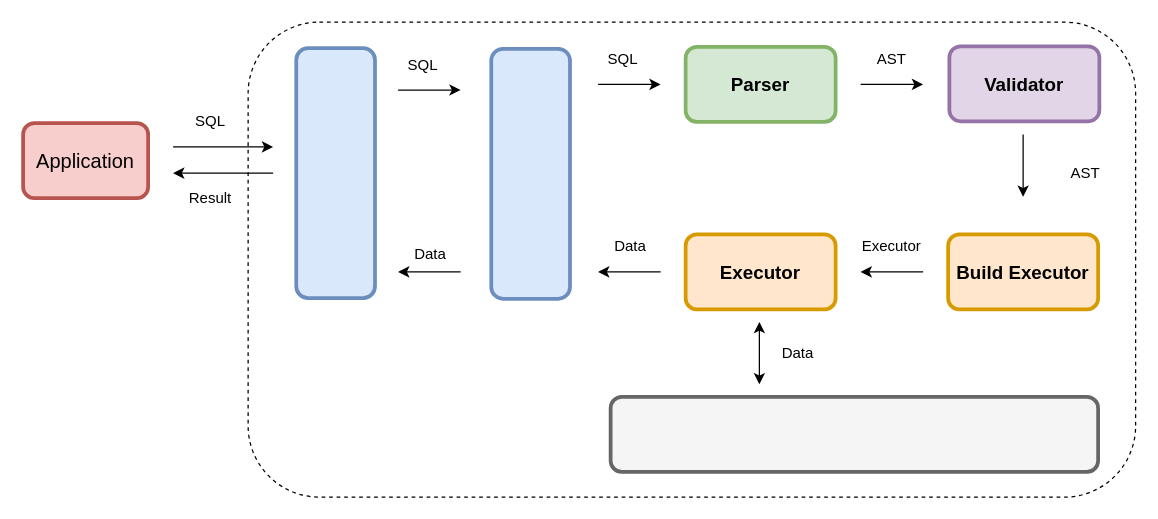
Some shapes in this 1158 by 519 pixel diagram are drawn without their labels. Each missing label, with the box of its shape:
Connection layer: (294, 46, 376, 299)
Session context: (489, 46, 571, 300)
TiKV cluster: (608, 394, 1099, 473)
